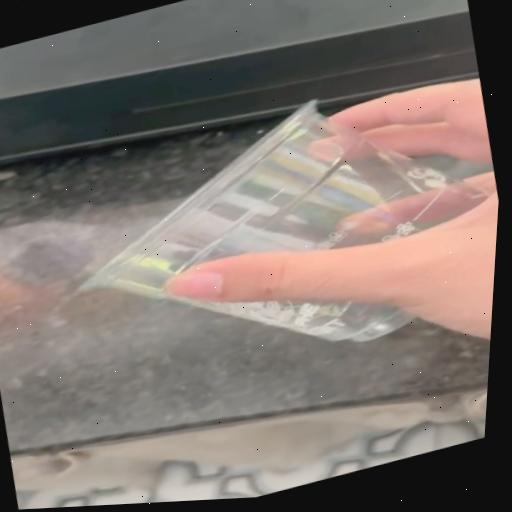ly_nhua: (84, 100, 484, 339)
